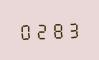eight: (48, 20, 62, 39)
three: (63, 19, 77, 39)
two: (33, 20, 47, 40)
zero: (18, 21, 32, 40)
